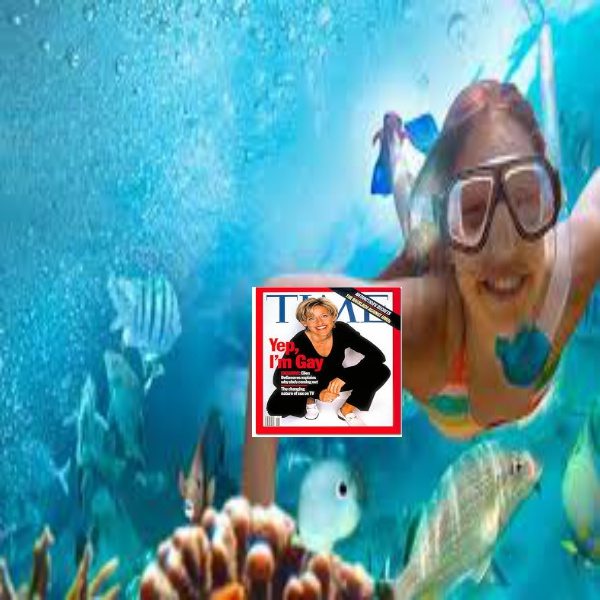time_cover: (237, 277, 401, 444)
